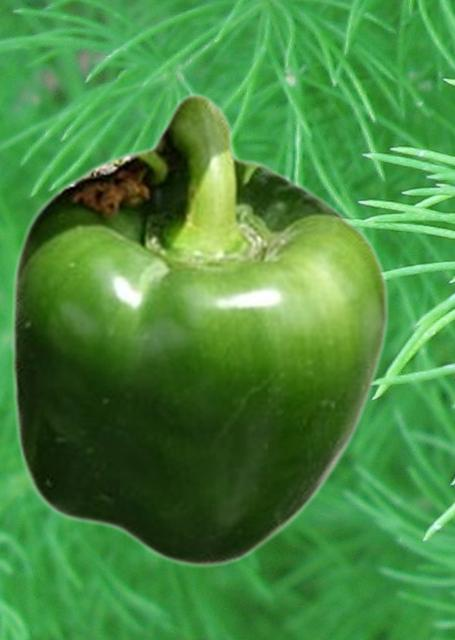bell_pepper: (9, 92, 389, 568)
